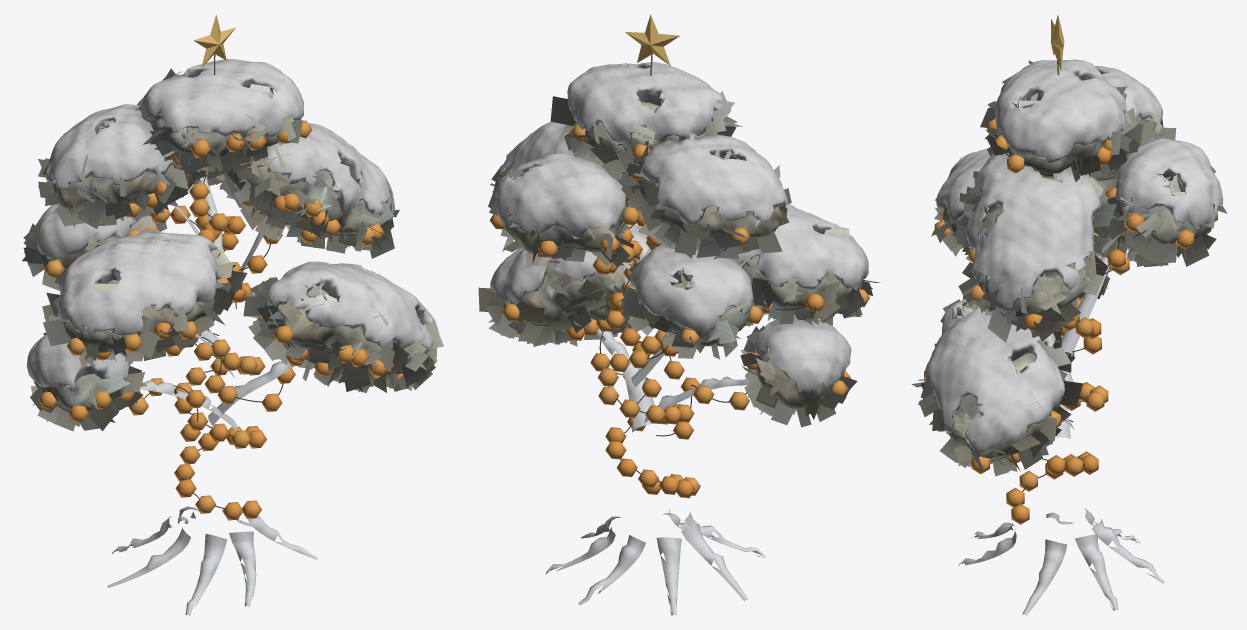
The model's file is tree-crown.glb.
3 views of the same model, side by side, from view 1: azimuth 30°, elevation 25°; view 2: azimuth 150°, elevation 25°; view 3: azimuth 270°, elevation 25° (orthographic).
Parts seen in each view (by area): view 1: snow, needles, lights, arrival; view 2: snow, needles, lights, arrival; view 3: snow, needles, lights, arrival.
Boxes of the visible parts, x1,y1,x2,y2 form: snow: (26, 59, 439, 392); needles: (22, 68, 443, 431); lights: (38, 14, 437, 520); arrival: (107, 176, 317, 615); snow: (490, 62, 868, 391); needles: (478, 91, 880, 427); lights: (489, 14, 869, 498); arrival: (546, 246, 765, 615); snow: (924, 59, 1223, 452); needles: (911, 60, 1227, 476); lights: (923, 15, 1217, 524); arrival: (958, 233, 1165, 615).
Size of the model in its own units: 35.6 by 48.83 by 25.43.
